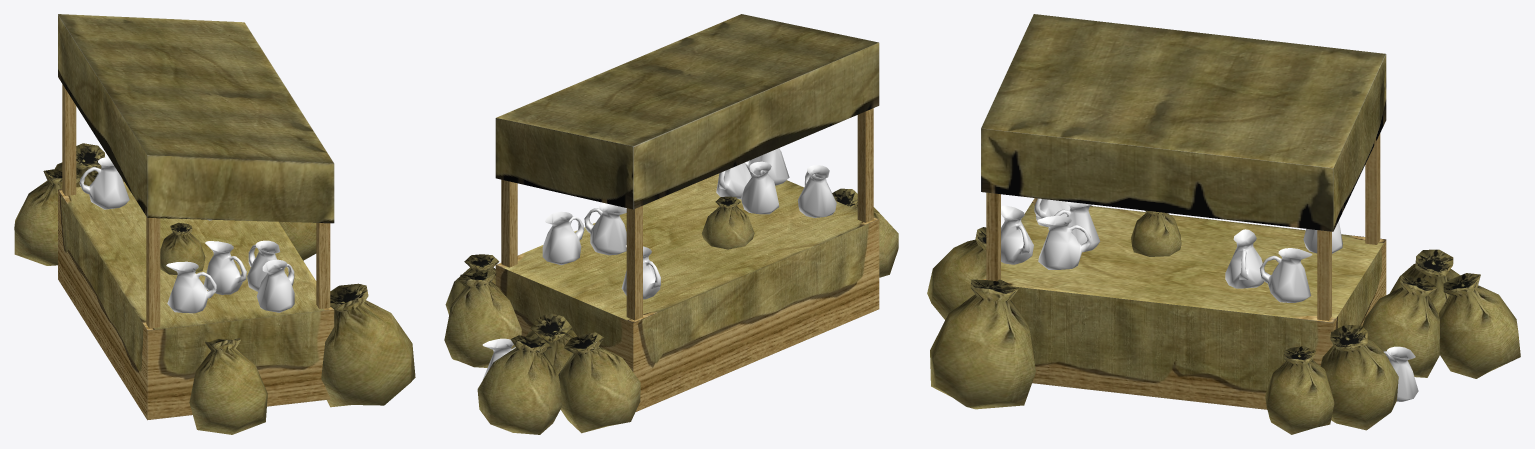
The model's file is store12_2.fbx.
3 views of the same model, side by side, from view 1: azimuth 30°, elevation 25°; view 2: azimuth 150°, elevation 25°; view 3: azimuth 270°, elevation 25° (orthographic). The views are drawn at different scales.
Parts seen in each view (by area): view 1: stand_17, bag_145, bag_152, bag_150, pot_23, pot_22, pot_20, pot_18, bag_149, pot_21, bag_148, bag_147; view 2: stand_17, bag_147, bag_150, bag_146, bag_149, pot_24, pot_17, bag_151, pot_23, pot_18, bag_152, pot_21 (+4 smaller); view 3: stand_17, bag_145, bag_147, bag_146, bag_151, bag_148, bag_152, pot_21, pot_24, bag_149, bag_150, pot_17 (+4 smaller).
Boxes of the visible parts, <box> form: stand_17: <box>58,14,334,420</box>; bag_145: <box>321,283,415,407</box>; bag_152: <box>189,337,267,434</box>; bag_150: <box>14,169,79,265</box>; pot_23: <box>166,261,216,313</box>; pot_22: <box>256,259,294,312</box>; pot_20: <box>79,157,129,209</box>; pot_18: <box>204,241,246,294</box>; bag_149: <box>160,222,205,274</box>; pot_21: <box>247,240,280,291</box>; bag_148: <box>279,222,316,260</box>; bag_147: <box>55,143,104,187</box>; stand_17: <box>495,14,879,411</box>; bag_147: <box>477,335,562,434</box>; bag_150: <box>558,332,640,433</box>; bag_146: <box>444,270,521,367</box>; bag_149: <box>701,196,754,249</box>; pot_24: <box>542,211,584,265</box>; pot_17: <box>584,203,626,255</box>; bag_151: <box>526,313,577,374</box>; pot_23: <box>798,165,836,217</box>; pot_18: <box>741,161,779,214</box>; bag_152: <box>832,188,898,277</box>; pot_21: <box>716,162,751,199</box>; stand_17: <box>981,14,1386,409</box>; bag_145: <box>930,279,1035,409</box>; bag_147: <box>1439,273,1520,378</box>; bag_146: <box>1320,324,1398,430</box>; bag_151: <box>1362,275,1439,377</box>; bag_148: <box>1265,346,1334,434</box>; bag_152: <box>927,227,986,319</box>; pot_21: <box>1037,215,1091,269</box>; pot_24: <box>1260,248,1312,302</box>; bag_149: <box>1131,210,1181,256</box>; bag_150: <box>1389,249,1460,315</box>; pot_17: <box>1225,229,1263,288</box>.
Size of the model in its own units: 65.33 by 58.02 by 107.
